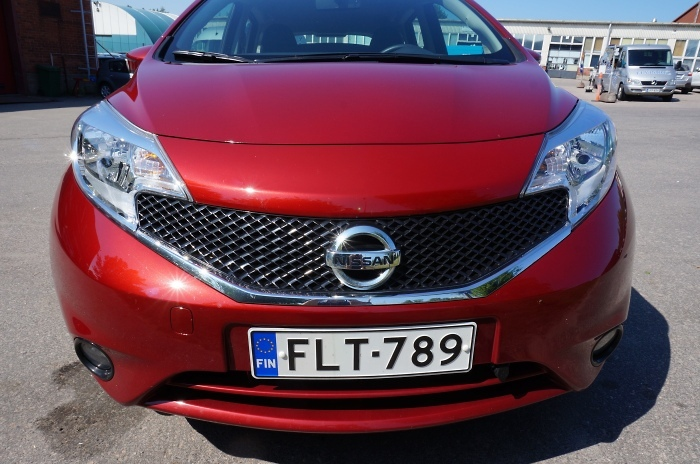license: (248, 325, 476, 382)
